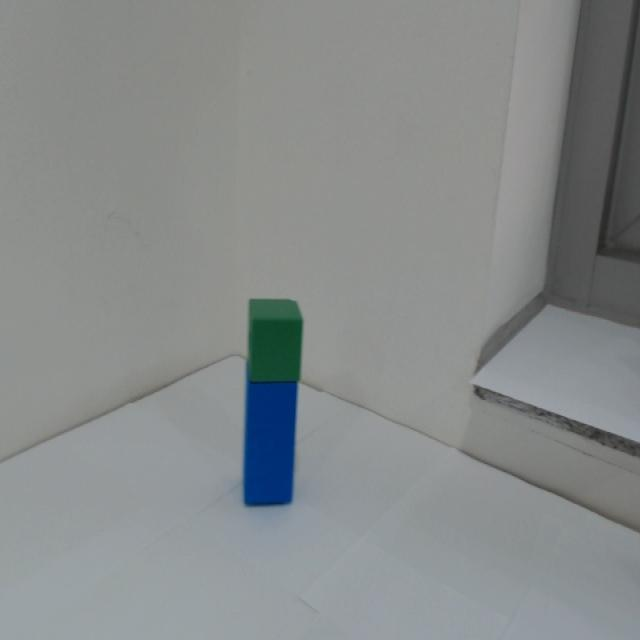cube: (239, 291, 308, 387)
